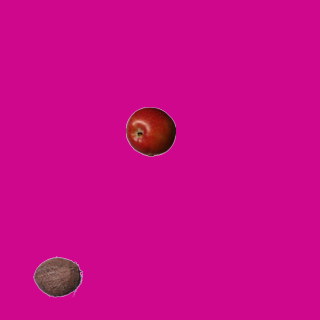Apple Braeburn: (125, 106, 175, 156)
Cocos: (32, 251, 82, 301)
